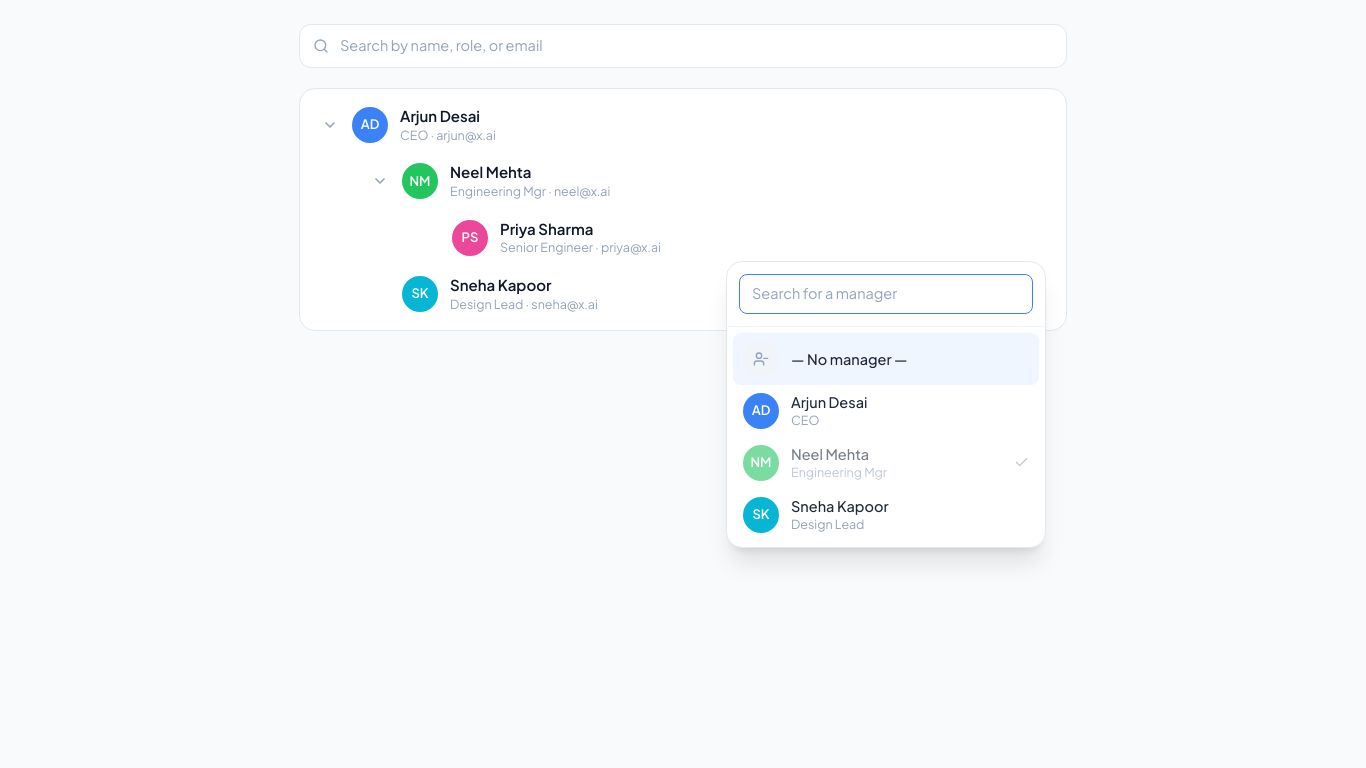
Test: HierarchyTree reassignment › keeps the picker open after a failed save
Earlier steps of the test are not shown.
Click the option "SK Sneha Kapoor Design Lead". click: {"x": 816, "y": 515}
box: [743,497,888,533]
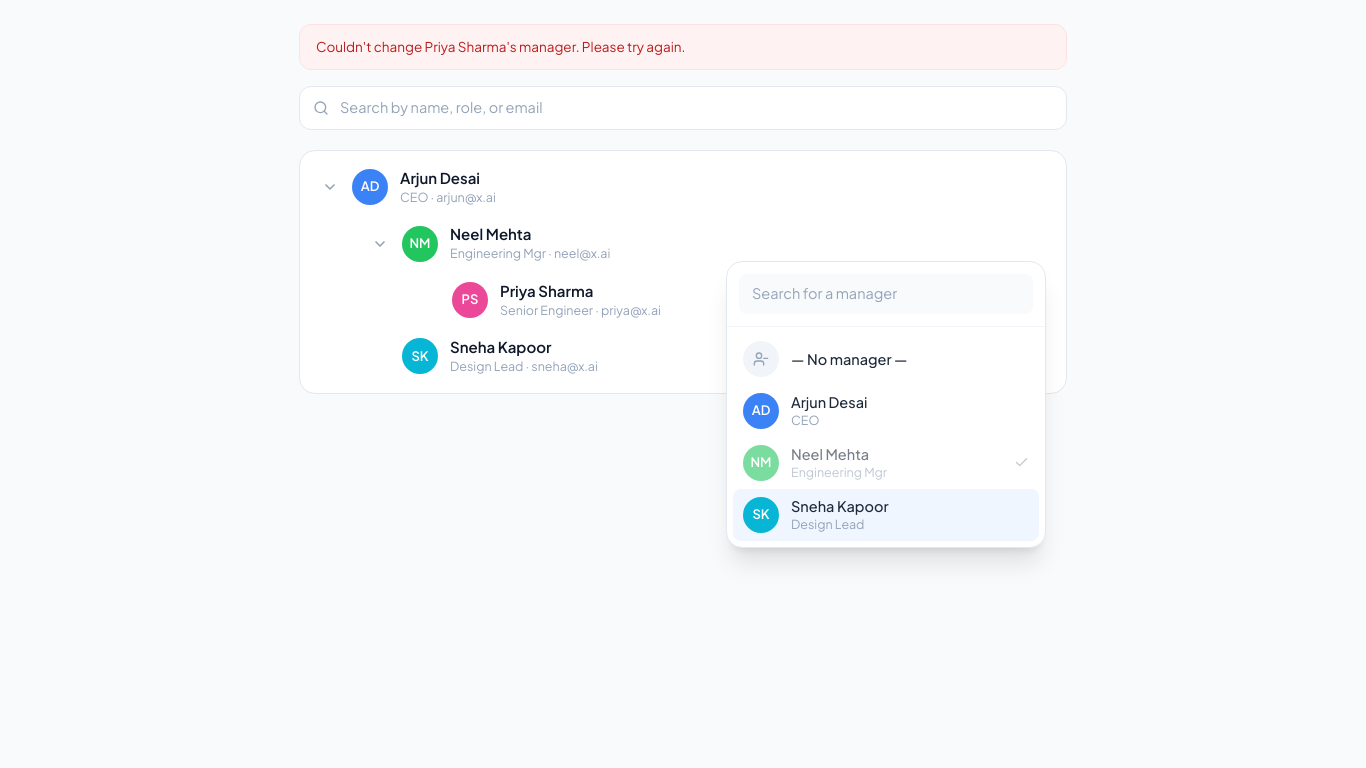
Expected: the dialog named "change manager for priya" is shown, [726,261,1046,548]
Expected: the message "Couldn't change Priya Sharma's manager. Please try again." is shown, [299,24,1067,70]
